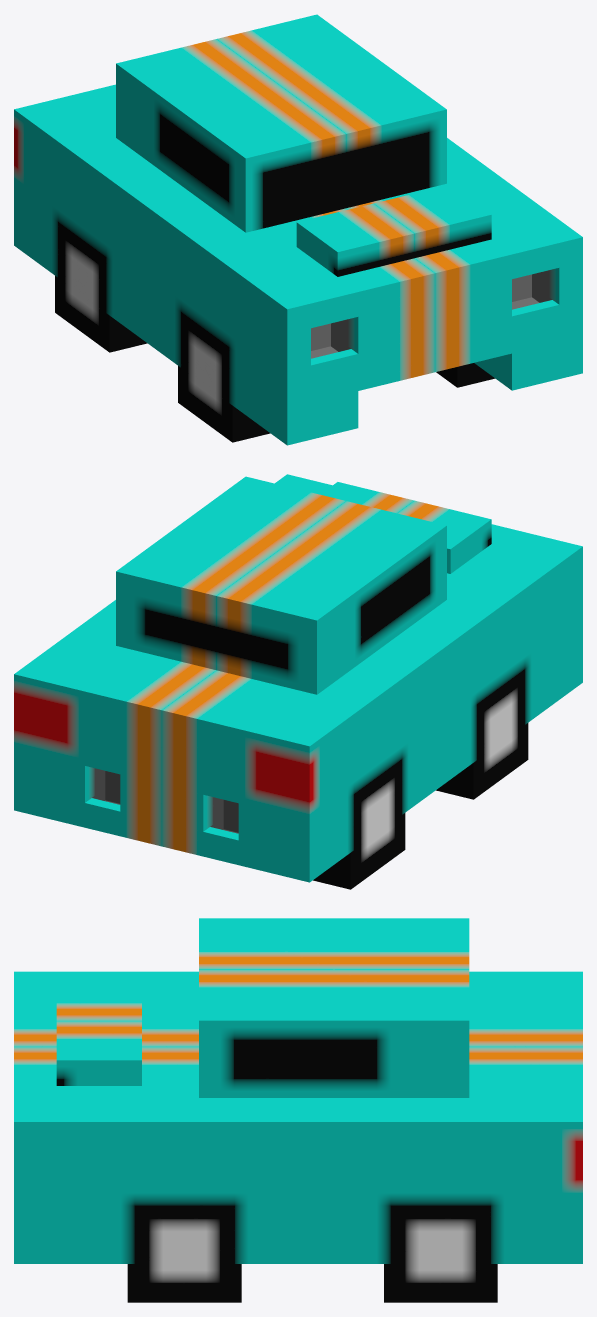
Rendered from Car_1.fbx.
The picture shows the model from 3 angles, top to bottom: view 1: azimuth 30°, elevation 25°; view 2: azimuth 150°, elevation 25°; view 3: azimuth 270°, elevation 25°; orthographic projection. The views are drawn at different scales.
Visible parts, largest first — view 1: Car_1; view 2: Car_1; view 3: Car_1.
Boxes of the visible parts, x1,y1,x2,y2 form: Car_1: (14, 14, 582, 445); Car_1: (14, 474, 582, 889); Car_1: (14, 918, 582, 1302).
Size of the model in its own units: 25 by 20 by 40.
1 material, 1 textured.
